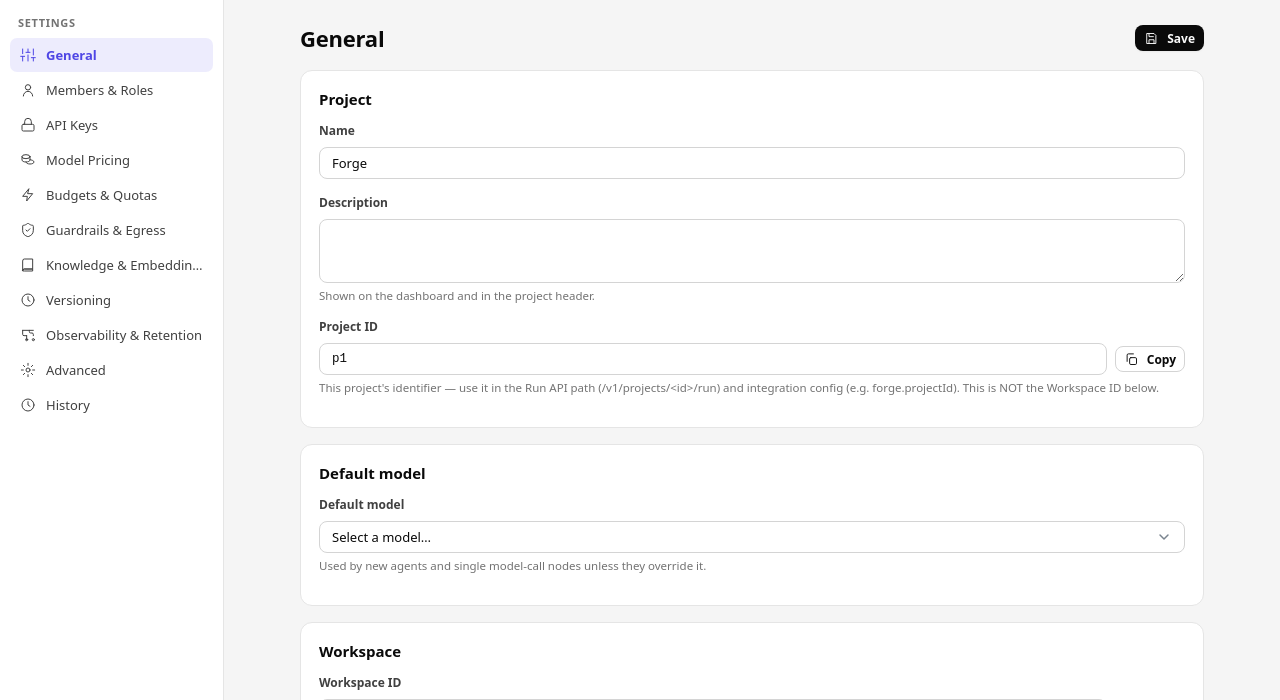
Test: Forge console smoke coverage › navigates to the Versioning settings section
This screenshot has width=1280, height=700.
Click the button "Versioning": (112, 300) [10,283,213,317]
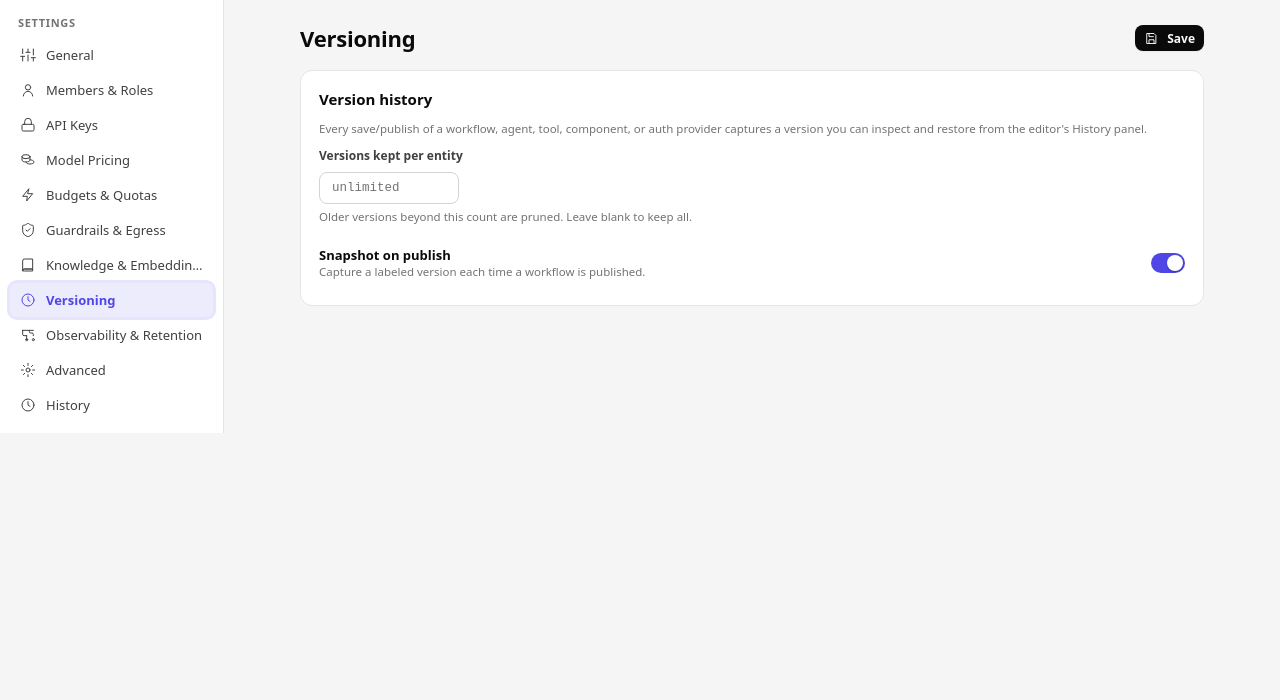
Expected: the text "Version history" is shown, [319,89,432,109]
Expected: the text "Versions kept per entity" is shown, [319,147,463,164]
